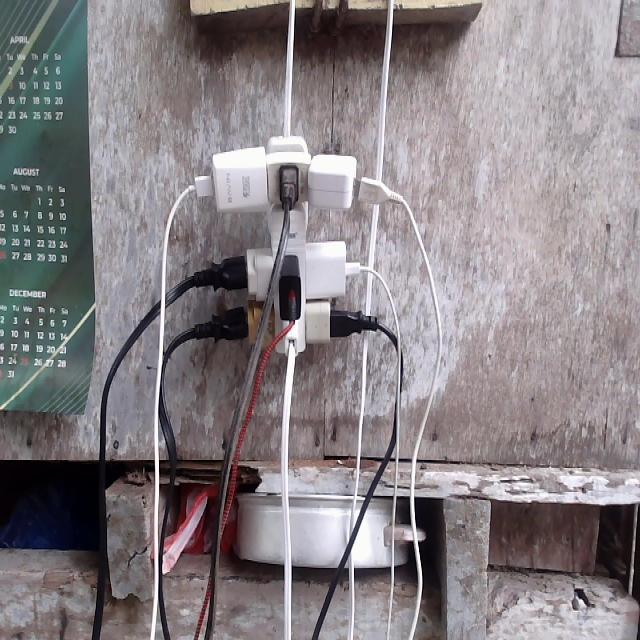-: (184, 132, 406, 363)
